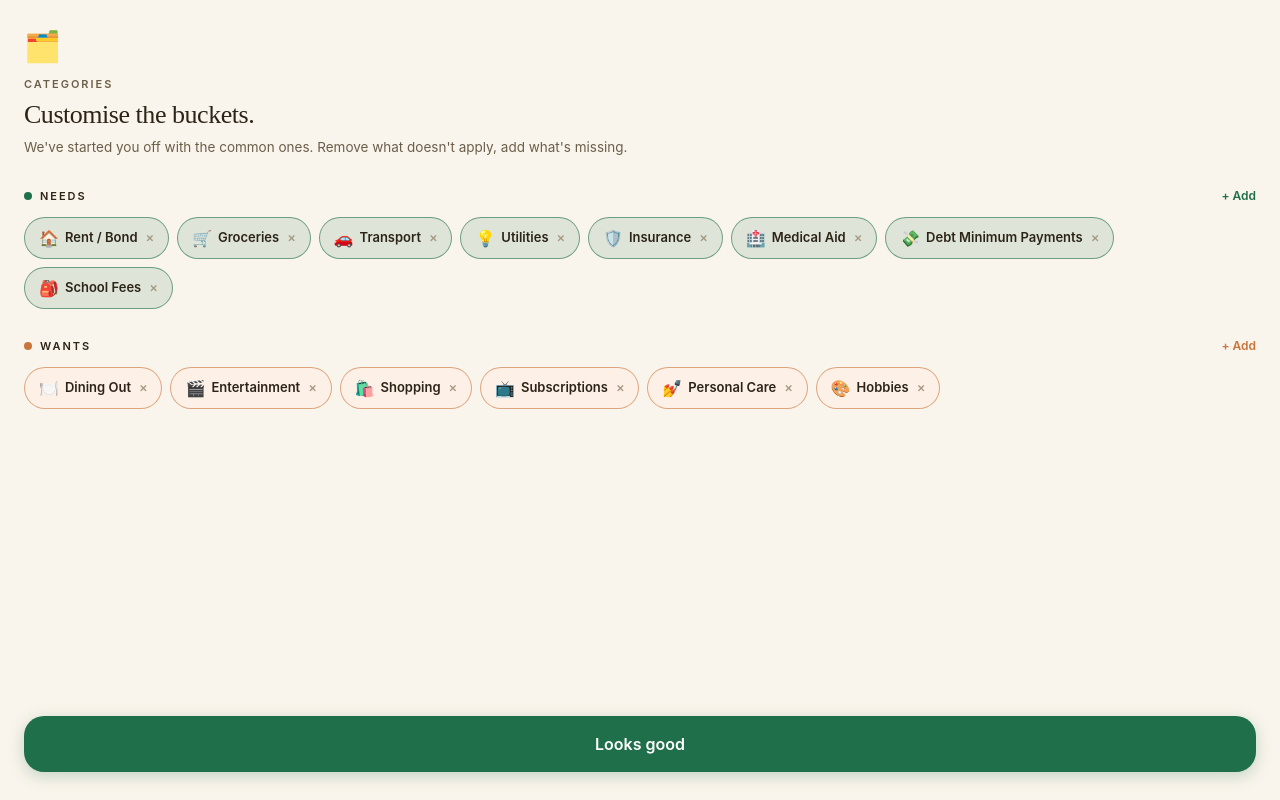
Scenario: CategoryScreen › exposes extras under a "+ Add" toggle in each bucket
This screenshot has width=1280, height=800.
Expected: the button "stokvel" is not shown
Click the button "+ Add" in the row of "Needs": (1239, 196) [1221,187,1256,205]
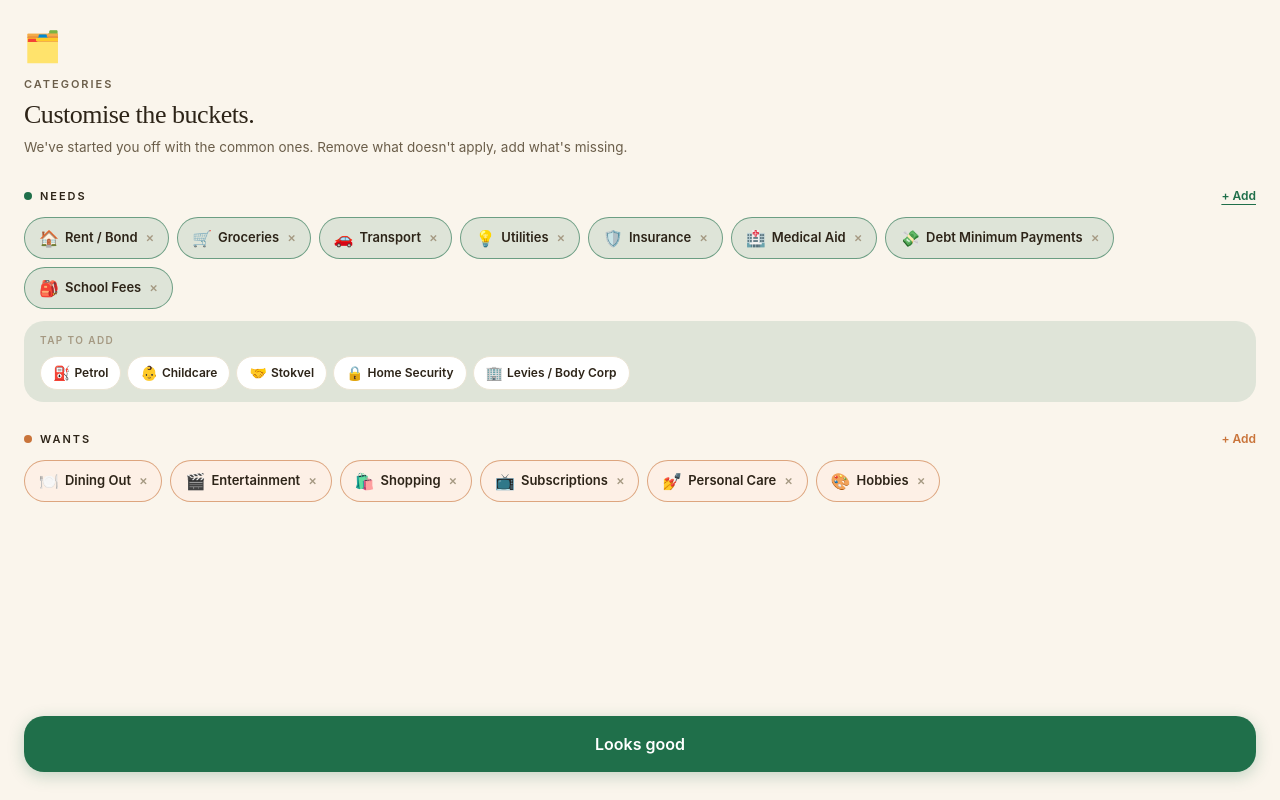
Expected: the button "🤝 Stokvel" is shown, [236,356,327,390]
